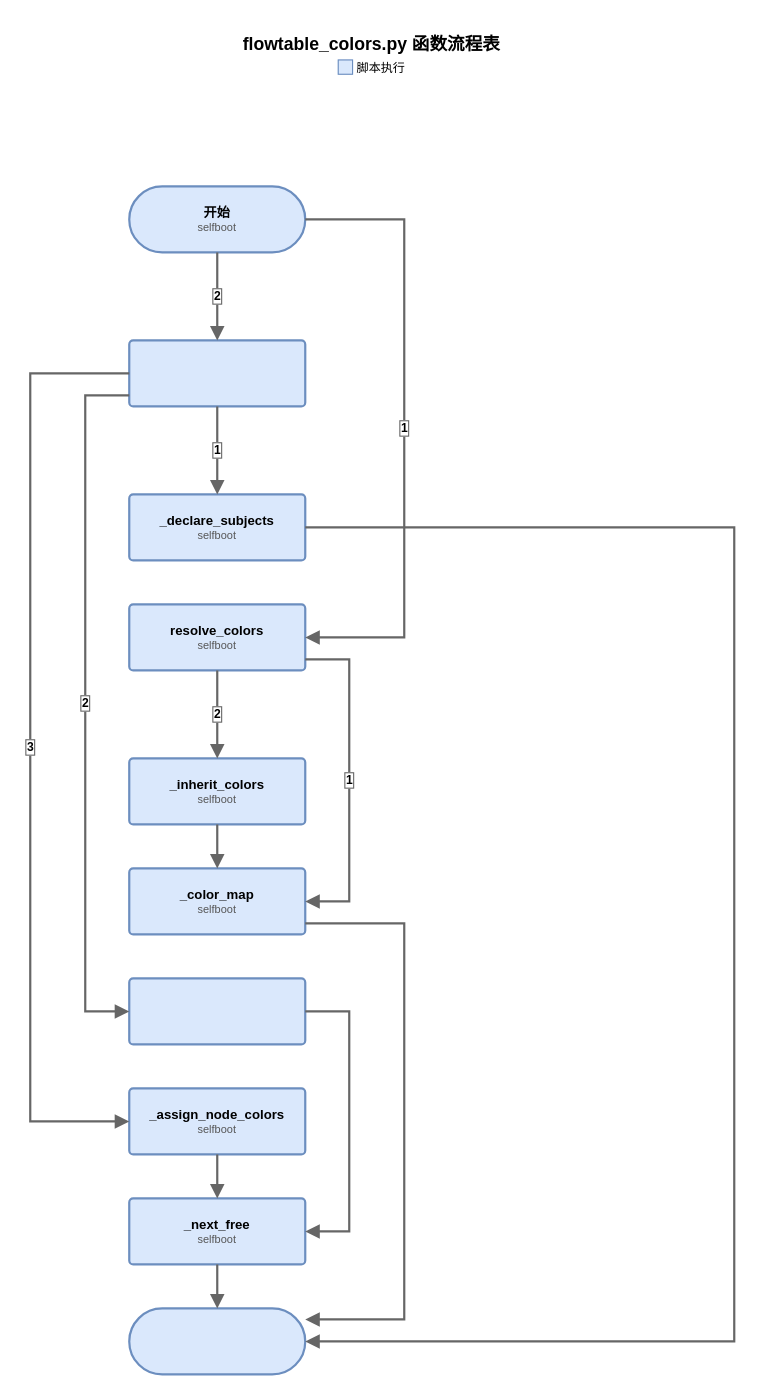
Some shapes in this 765 by 1394 pixel diagram are drawn without their labels. The centre of each missing label's shape, as x and y in pixels:
"_assign_lane_colors selfboot" goes at point 217,1011.
"subject_map selfboot" goes at point 217,373.
"结束 selfboot" goes at point 217,1341.
